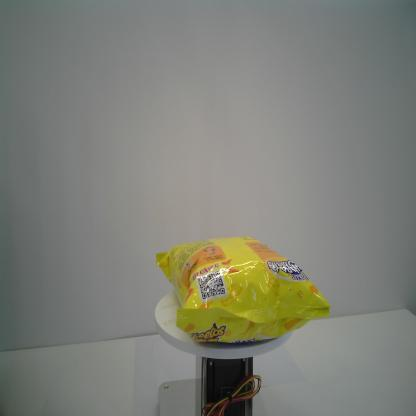Puffed Food: (152, 232, 330, 346)
